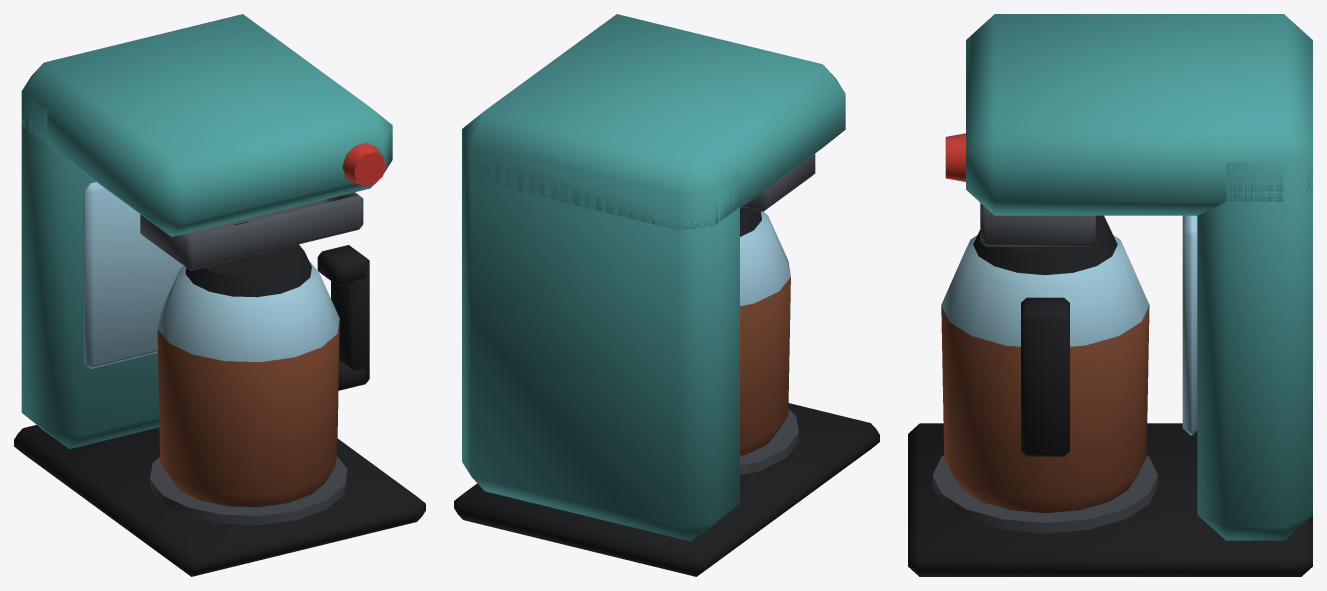
The model's file is CoffeeMaker_Drip_01.glb.
The picture shows the model from 3 angles, left to right: view 1: azimuth 30°, elevation 25°; view 2: azimuth 150°, elevation 25°; view 3: azimuth 270°, elevation 25°; orthographic projection. The views are drawn at different scales.
Visible parts, largest first — view 1: SM_CoffeeMaker_Drip_01; view 2: SM_CoffeeMaker_Drip_01; view 3: SM_CoffeeMaker_Drip_01.
Part boxes in pixels (x1=…): SM_CoffeeMaker_Drip_01: x1=14, y1=14, x2=425, y2=576; SM_CoffeeMaker_Drip_01: x1=454, y1=14, x2=879, y2=576; SM_CoffeeMaker_Drip_01: x1=908, y1=14, x2=1312, y2=576.
Bounding box in the file's own units: 0.22 × 0.34 × 0.28.
1 material, 1 textured.
